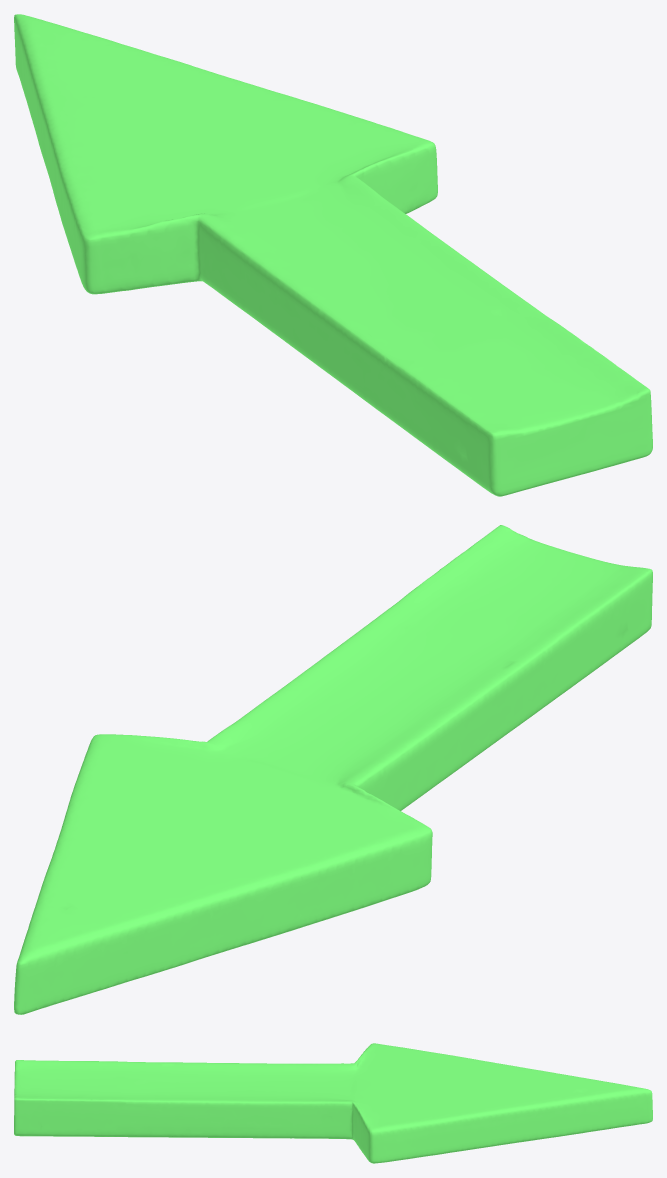
Rendered from modelgreen.glb.
3 renders of one model, top to bottom at view 1: azimuth 30°, elevation 25°; view 2: azimuth 150°, elevation 25°; view 3: azimuth 270°, elevation 25°, orthographic. The views are drawn at different scales.
Parts seen in each view (by area): view 1: Mesh_0.001; view 2: Mesh_0.001; view 3: Mesh_0.001.
Part boxes in pixels (left/top/right/bottom): Mesh_0.001: left=14, top=14, right=652, bottom=496; Mesh_0.001: left=14, top=525, right=652, bottom=1014; Mesh_0.001: left=14, top=1043, right=652, bottom=1163.
Bounding box in the file's own units: 0.717 × 0.1574 × 2.
